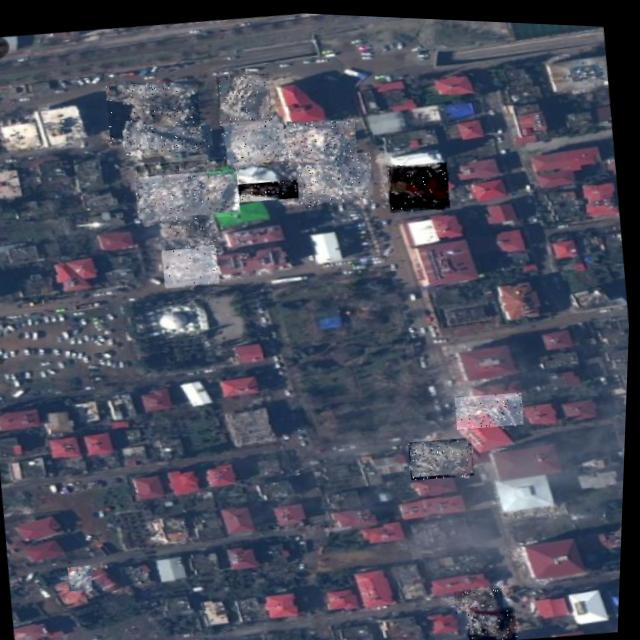Rubble: (103, 74, 202, 145), (133, 164, 243, 226), (293, 146, 376, 208), (281, 112, 360, 169), (121, 113, 213, 158), (219, 113, 290, 169), (385, 156, 452, 211), (214, 68, 274, 127), (409, 431, 477, 478), (455, 385, 526, 427), (136, 153, 223, 186), (161, 241, 221, 288), (162, 213, 219, 254), (469, 600, 522, 640), (231, 174, 300, 203), (457, 581, 508, 610), (70, 563, 97, 591)
